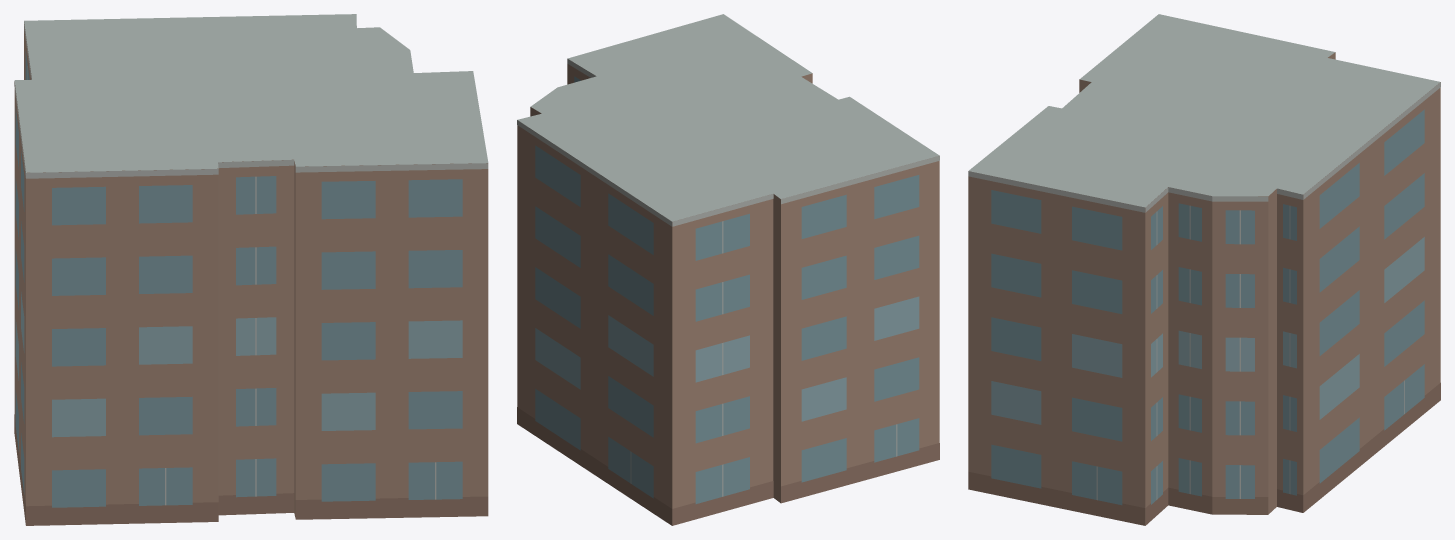
File: survey-upis-32886587.glb
3 renders of one model, left to right at view 1: azimuth 30°, elevation 25°; view 2: azimuth 150°, elevation 25°; view 3: azimuth 270°, elevation 25°, orthographic. The views are drawn at different scales.
Visible parts, largest first — view 1: survey-upis-32886587.tmp; view 2: survey-upis-32886587.tmp; view 3: survey-upis-32886587.tmp.
Boxes of the visible parts, bbox=[...] form: survey-upis-32886587.tmp: bbox=[14, 14, 488, 525]; survey-upis-32886587.tmp: bbox=[517, 14, 939, 525]; survey-upis-32886587.tmp: bbox=[968, 14, 1440, 525].
Size of the model in its own units: 18.91 by 14.5 by 19.51.
